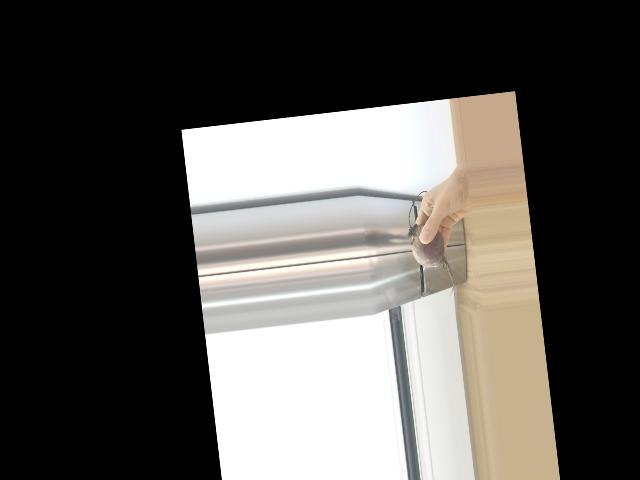beet: (403, 189, 455, 300)
